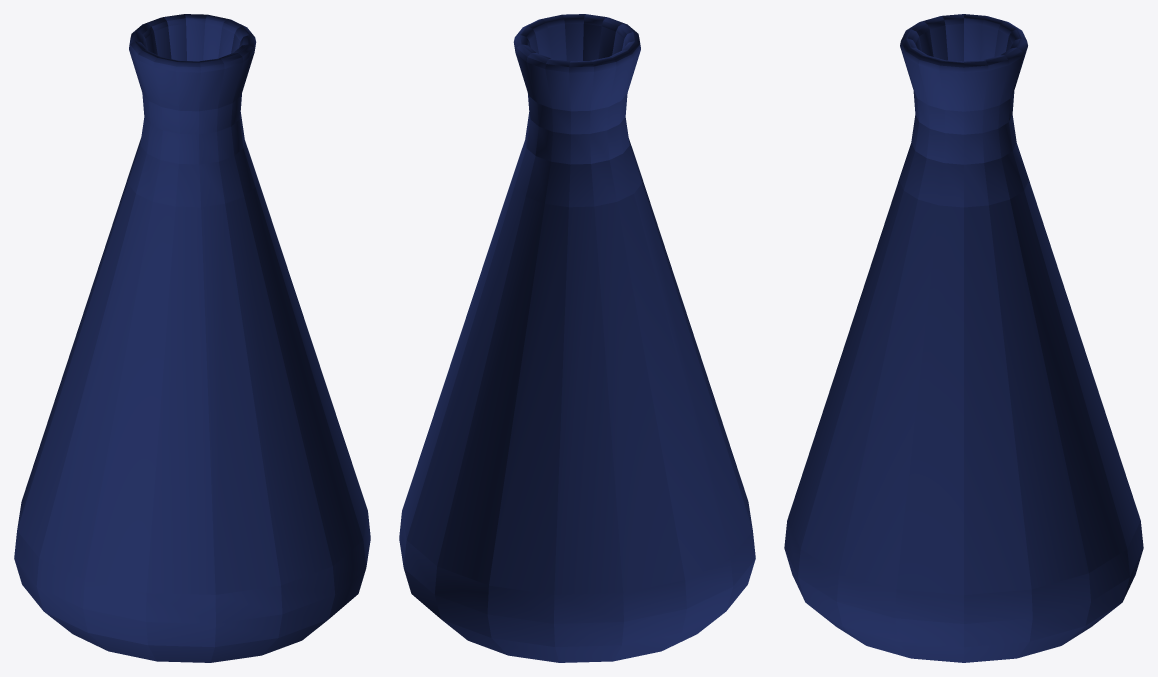
File: Small Bottle 1.fbx
The picture shows the model from 3 angles, left to right: view 1: azimuth 30°, elevation 25°; view 2: azimuth 150°, elevation 25°; view 3: azimuth 270°, elevation 25°; orthographic projection.
Visible parts, largest first — view 1: Node 0; view 2: Node 0; view 3: Node 0.
Part boxes in pixels (x1,y1,x2,y2): Node 0: [14, 14, 370, 662]; Node 0: [399, 14, 755, 662]; Node 0: [784, 14, 1143, 662].
Bounding box in the file's own units: 0.2136 × 0.3786 × 0.2137.
